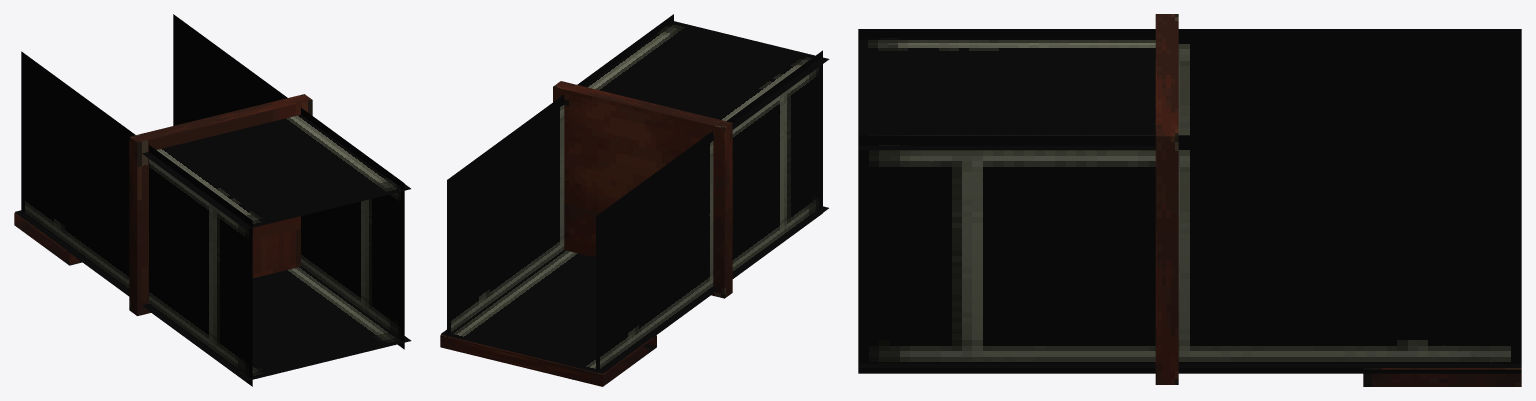
Rendered from prop_chairfallen-6-0.glb.
The picture shows the model from 3 angles, left to right: view 1: azimuth 30°, elevation 25°; view 2: azimuth 150°, elevation 25°; view 3: azimuth 270°, elevation 25°; orthographic projection. The views are drawn at different scales.
Parts seen in each view (by area): view 1: prop_chairfallen-6-0; view 2: prop_chairfallen-6-0; view 3: prop_chairfallen-6-0.
Boxes of the visible parts, left/top/right/bottom form: prop_chairfallen-6-0: left=14, top=14, right=411, bottom=386; prop_chairfallen-6-0: left=440, top=14, right=829, bottom=386; prop_chairfallen-6-0: left=858, top=14, right=1521, bottom=386.
Bounding box in the file's own units: 0.399 × 0.3859 × 0.9135.
Materials: 2 (2 with a texture image).
